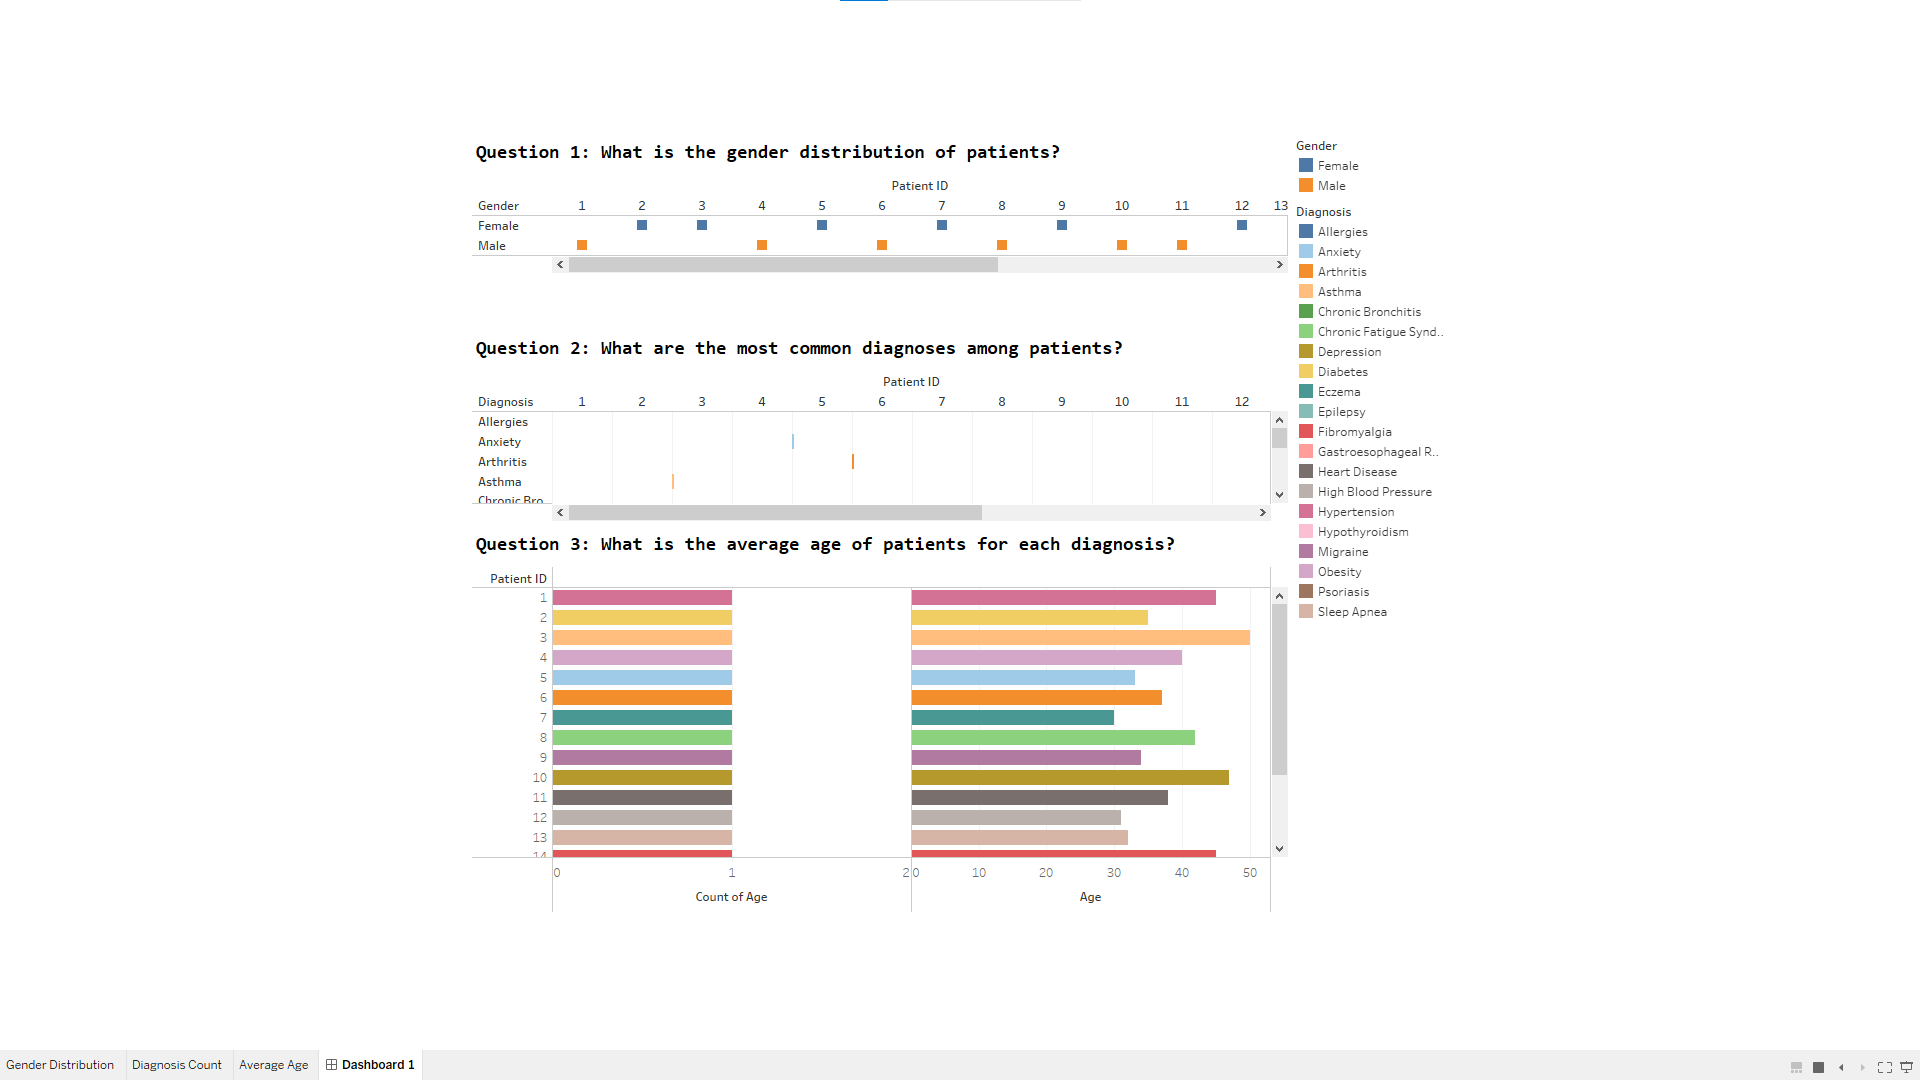

This screenshot's page, from the dashboard's own definition file:
{"tool":"tableau","page":{"name":"Dashboard 1","canvas":[1000,800],"ordinal":0},"visuals":[{"type":"worksheet","title":"Gender Distribution","mark":"Automatic","rows":["Gender"],"cols":["PatientID"],"box":[8,8,824,196]},{"type":"legend","title":"Gender Distribution","param":"[federated.1bdib4o08igm9p189v49q0cufu71].[none:Gender:nk]","box":[832,8,160,66]},{"type":"legend","title":"Diagnosis Count","param":"[federated.1bdib4o08igm9p189v49q0cufu71].[none:Diagnosis:nk]","box":[832,74,160,426]},{"type":"worksheet","title":"Diagnosis Count","mark":"Bar","rows":["Diagnosis"],"cols":["PatientID"],"box":[8,204,824,196]},{"type":"worksheet","title":"Average Age","mark":"Automatic","rows":["PatientID"],"cols":["Calculation_5999357705324748800","Calculation_5999357705324748800"],"box":[8,400,824,392]}]}

Visuals, with their boxes on the page's 1000x800 design canvas (x1, y1, x2, y2). These are canvas units, not pixel positions in the 1920x1080 screenshot, which may show the page scaled, cropped or inside an application window:
"Gender Distribution" worksheet: left=8, top=8, right=832, bottom=204
"Gender Distribution" legend: left=832, top=8, right=992, bottom=74
"Diagnosis Count" legend: left=832, top=74, right=992, bottom=500
"Diagnosis Count" worksheet (Bar marks): left=8, top=204, right=832, bottom=400
"Average Age" worksheet: left=8, top=400, right=832, bottom=792
